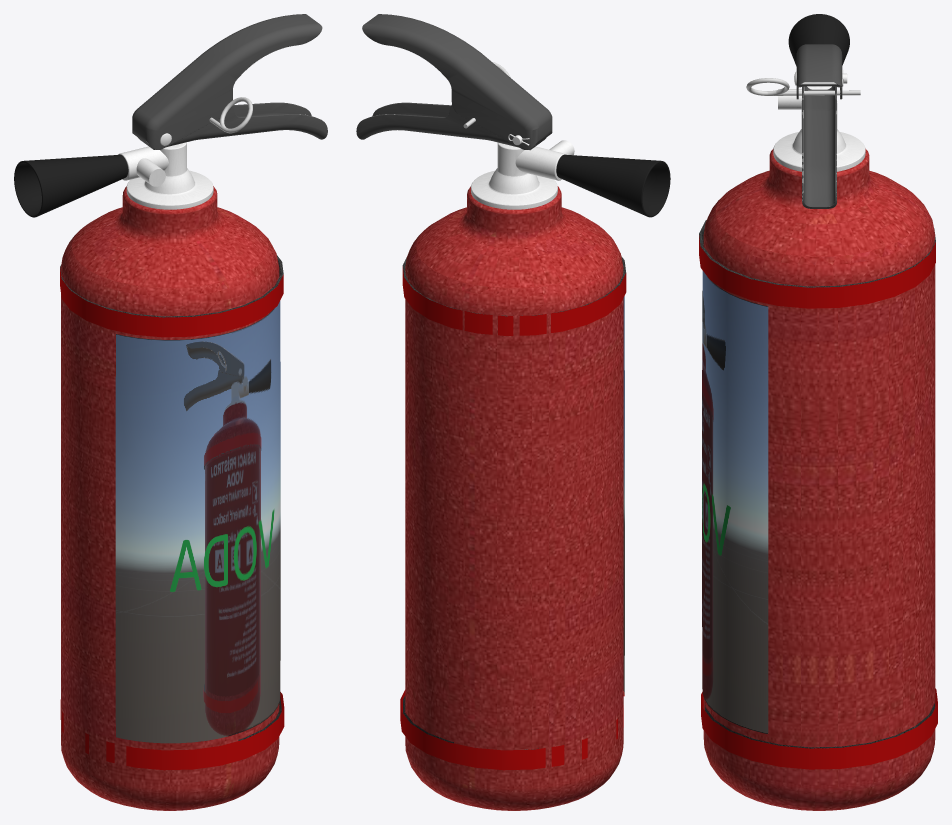
File: fire_water.fbx
3 renders of one model, left to right at view 1: azimuth 30°, elevation 25°; view 2: azimuth 150°, elevation 25°; view 3: azimuth 270°, elevation 25°, orthographic. The views are drawn at different scales.
Parts seen in each view (by area): view 1: Group4, Group3, Group8, Group7, Group5, FireJadi8_1, Group2, Group9, Group1; view 2: Group3, Group8, Group7, FireJadi8_1, Group5, Group2, Group9, Group4; view 3: Group3, Group4, Group2, Group5, Group9, FireJadi8_1, Group8, Group7, Group1, Group10.
Part boxes in pixels (x1,y1,x2,y2): Group4: [115, 301, 280, 743]; Group3: [61, 186, 279, 810]; Group8: [132, 14, 322, 149]; Group7: [14, 154, 128, 217]; Group5: [60, 267, 283, 337]; FireJadi8_1: [118, 142, 213, 209]; Group2: [60, 692, 284, 770]; Group9: [138, 102, 327, 149]; Group1: [60, 255, 283, 740]; Group3: [405, 186, 623, 810]; Group8: [362, 14, 552, 149]; Group7: [556, 154, 670, 217]; FireJadi8_1: [471, 140, 574, 209]; Group5: [402, 266, 626, 335]; Group2: [400, 690, 623, 770]; Group9: [356, 102, 546, 150]; Group4: [623, 296, 624, 694]; Group3: [703, 148, 935, 810]; Group4: [702, 271, 768, 733]; Group2: [701, 688, 937, 769]; Group5: [699, 235, 935, 308]; Group9: [802, 86, 836, 208]; FireJadi8_1: [773, 89, 865, 171]; Group8: [796, 44, 842, 99]; Group7: [788, 14, 849, 66]; Group1: [699, 220, 935, 748]; Group10: [746, 78, 860, 95].
Size of the model in its own units: 23.53 by 56.09 by 15.75.
